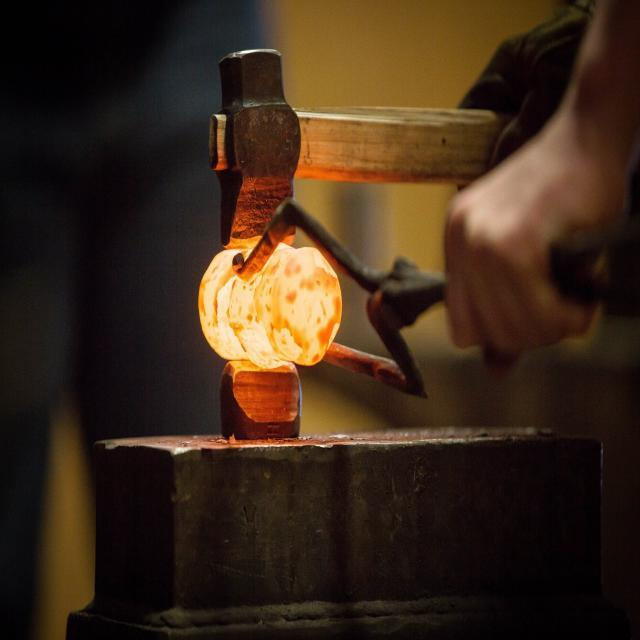hammer: (207, 39, 510, 250)
